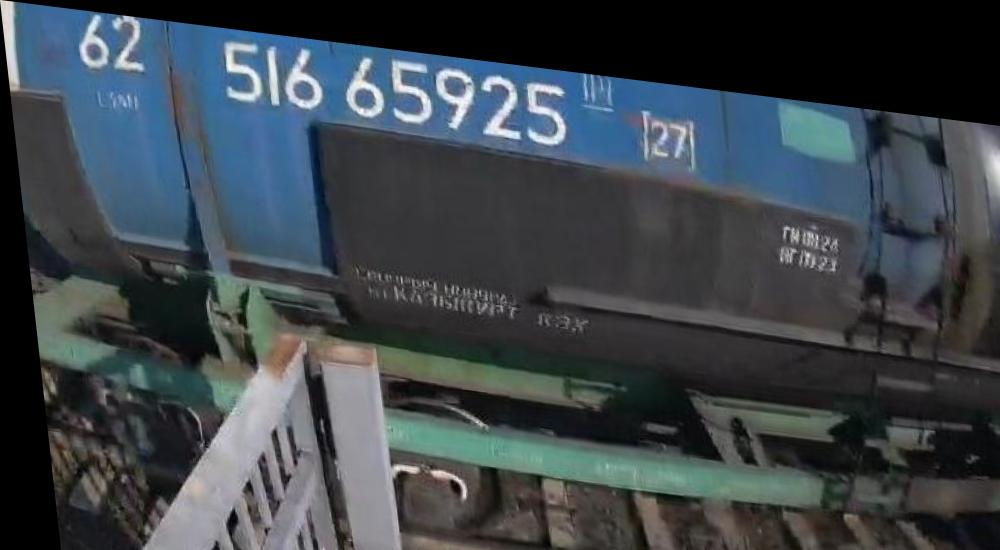Wagon-number: (214, 25, 574, 138)
